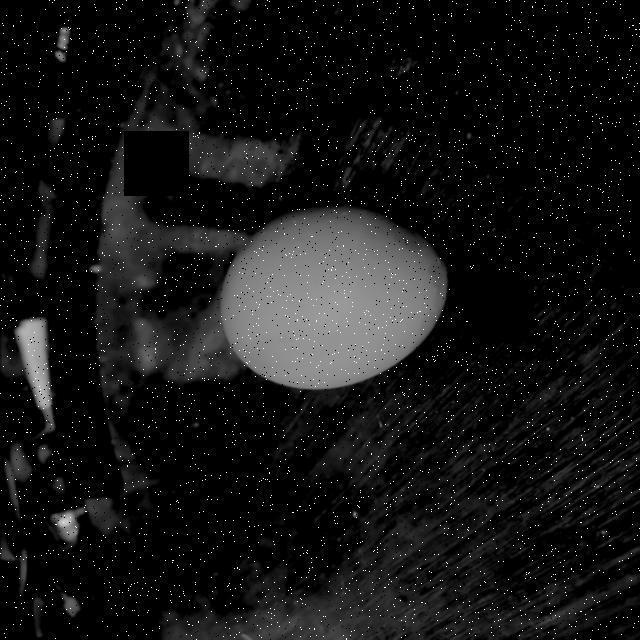egg: (213, 192, 457, 396)
